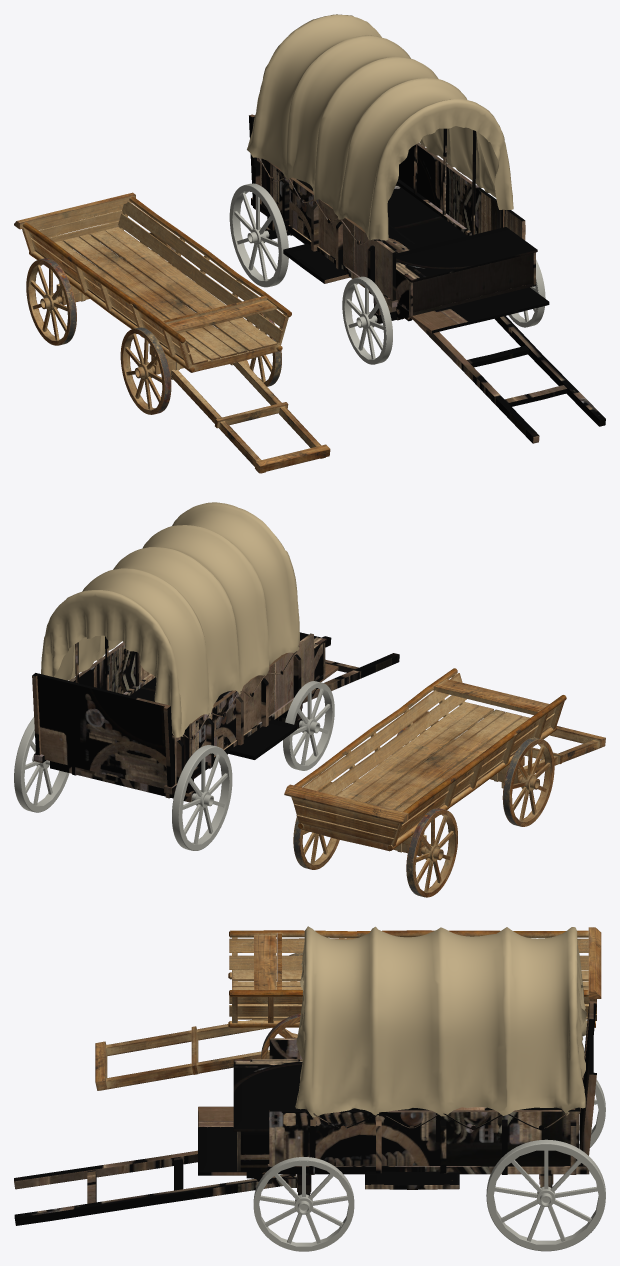
Rendered from Carts.fbx.
3 views of the same model, one above another, from view 1: azimuth 30°, elevation 25°; view 2: azimuth 150°, elevation 25°; view 3: azimuth 270°, elevation 25° (orthographic). The views are drawn at different scales.
Visible parts, largest first — view 1: Cart_C, Cart_A; view 2: Cart_C, Cart_A; view 3: Cart_C, Cart_A.
Boxes of the visible parts, box(x1,y1,x2,y2) form: Cart_C: box(229, 14, 605, 443); Cart_A: box(14, 192, 330, 473); Cart_C: box(14, 502, 399, 850); Cart_A: box(284, 668, 605, 897); Cart_C: box(14, 926, 605, 1251); Cart_A: box(95, 927, 601, 1090).
Bounding box in the file's own units: 436 × 253 × 497.
